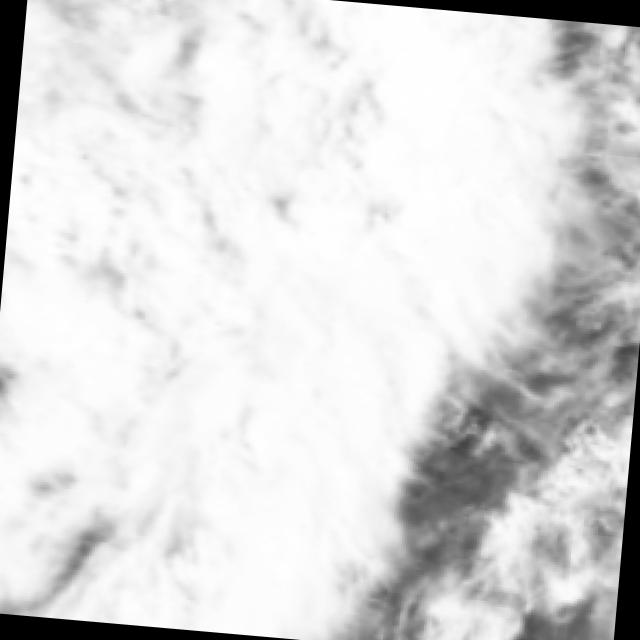CB: (310, 5, 472, 332), (215, 295, 342, 640)
